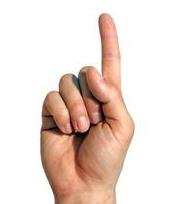up: (36, 10, 138, 189)
